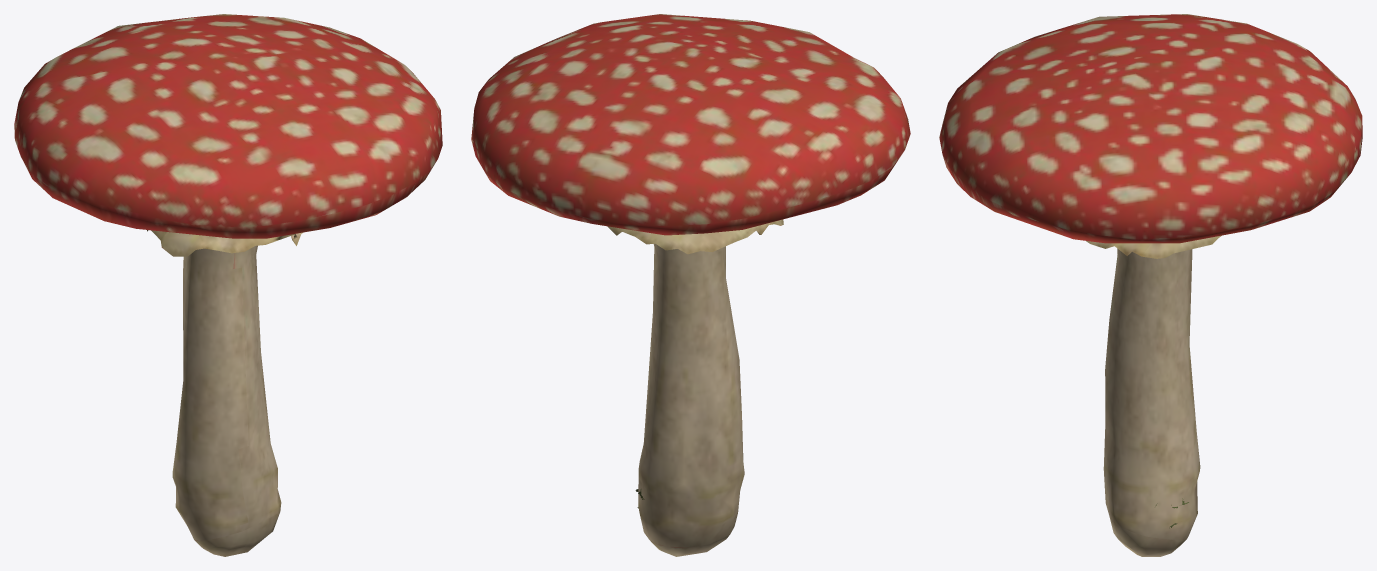
3 views of the same model, side by side, from view 1: azimuth 30°, elevation 25°; view 2: azimuth 150°, elevation 25°; view 3: azimuth 270°, elevation 25° (orthographic).
Parts seen in each view (by area): view 1: pilz2_m0, pilz2_m1, pilz2_m2; view 2: pilz2_m0, pilz2_m1, pilz2_m2; view 3: pilz2_m0, pilz2_m1, pilz2_m2.
Boxes of the visible parts, bbox=[...] form: pilz2_m0: bbox=[14, 14, 442, 238]; pilz2_m1: bbox=[172, 245, 281, 556]; pilz2_m2: bbox=[147, 230, 303, 256]; pilz2_m0: bbox=[471, 14, 910, 235]; pilz2_m1: bbox=[638, 243, 744, 556]; pilz2_m2: bbox=[607, 219, 783, 254]; pilz2_m0: bbox=[939, 14, 1362, 243]; pilz2_m1: bbox=[1103, 248, 1200, 556]; pilz2_m2: bbox=[1086, 235, 1221, 258].
Size of the model in its own units: 102 by 127 by 100.
Materials: 61 (61 with a texture image).
